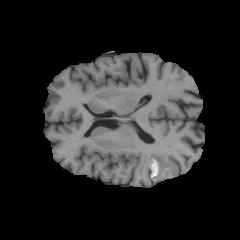glioma: (145, 153, 181, 184)
